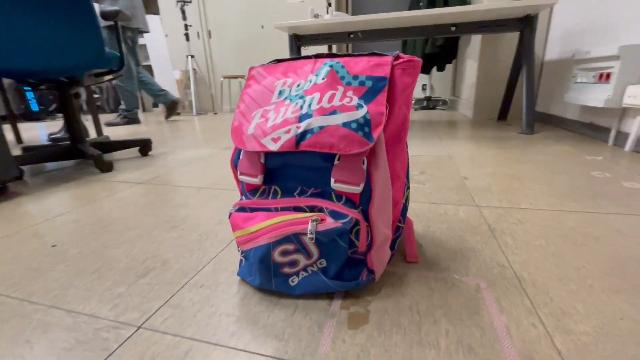Backpack: (218, 43, 430, 306)
Lamp: (138, 13, 186, 119)
Stool: (213, 72, 247, 116)
